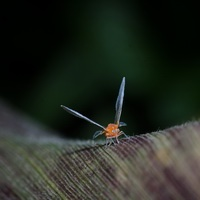insect: (60, 77, 127, 144)
